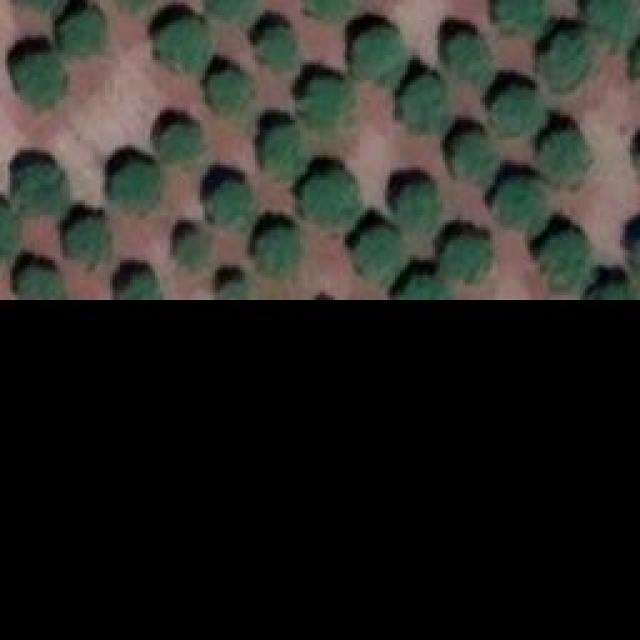Tree: (300, 167, 363, 225), (345, 23, 400, 83), (153, 18, 206, 71), (12, 50, 60, 108), (493, 85, 543, 140), (297, 73, 345, 126), (355, 223, 403, 276), (18, 163, 68, 213), (403, 73, 448, 128), (493, 177, 543, 225), (60, 8, 105, 61), (535, 233, 588, 278), (113, 163, 156, 216), (440, 233, 490, 278), (450, 125, 493, 175), (543, 133, 586, 183), (445, 30, 488, 78), (545, 35, 588, 83), (205, 178, 250, 221), (260, 122, 300, 170), (205, 68, 248, 111), (20, 255, 63, 298), (262, 225, 300, 273), (70, 218, 108, 263), (402, 183, 440, 228), (175, 228, 213, 273), (587, 0, 635, 35), (298, 0, 353, 30), (395, 268, 450, 298), (163, 123, 203, 163), (495, 0, 545, 32), (118, 265, 161, 300), (263, 25, 296, 70), (0, 200, 20, 259), (210, 0, 257, 22), (593, 280, 632, 301), (217, 277, 251, 299)
